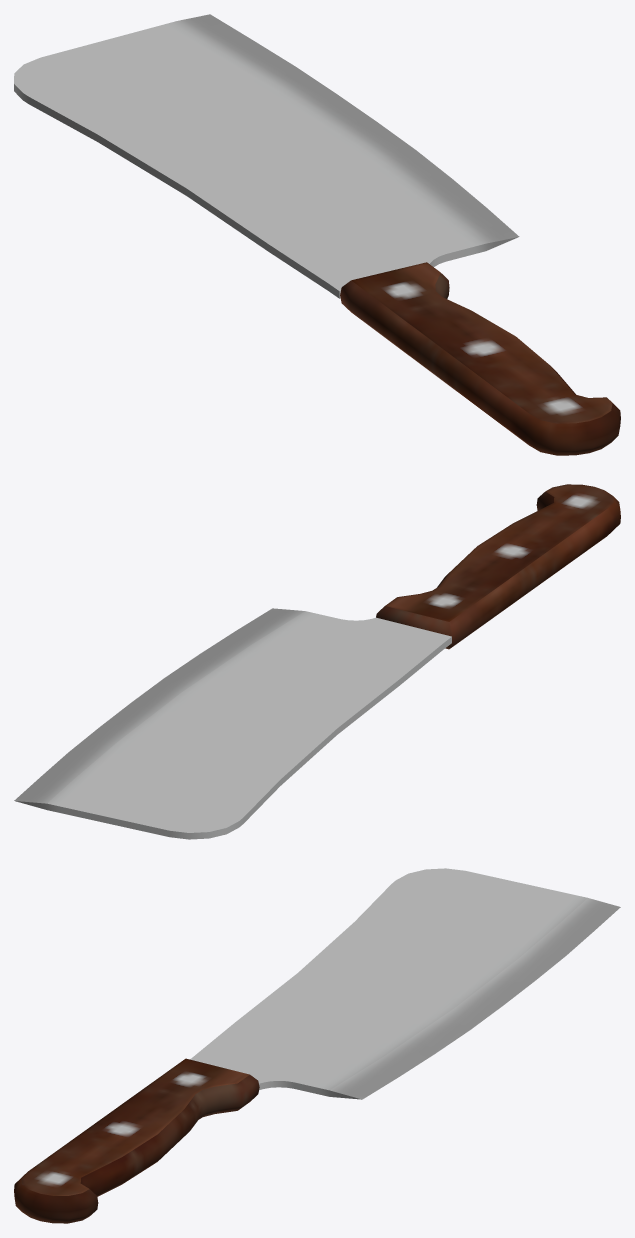
The model's file is Prop_Kitchen_Knife_x3.fbx.
The picture shows the model from 3 angles, top to bottom: view 1: azimuth 30°, elevation 25°; view 2: azimuth 150°, elevation 25°; view 3: azimuth 330°, elevation 25°; orthographic projection. The views are drawn at different scales.
Parts seen in each view (by area): view 1: Prop_Kitchen_Knife_x3; view 2: Prop_Kitchen_Knife_x3; view 3: Prop_Kitchen_Knife_x3.
Part boxes in pixels (box(x1,y1,x2,y2)): Prop_Kitchen_Knife_x3: box(14, 14, 620, 455); Prop_Kitchen_Knife_x3: box(14, 484, 620, 839); Prop_Kitchen_Knife_x3: box(14, 868, 620, 1223).
Bounding box in the file's own units: 4.74 × 0.6037 × 18.2.
